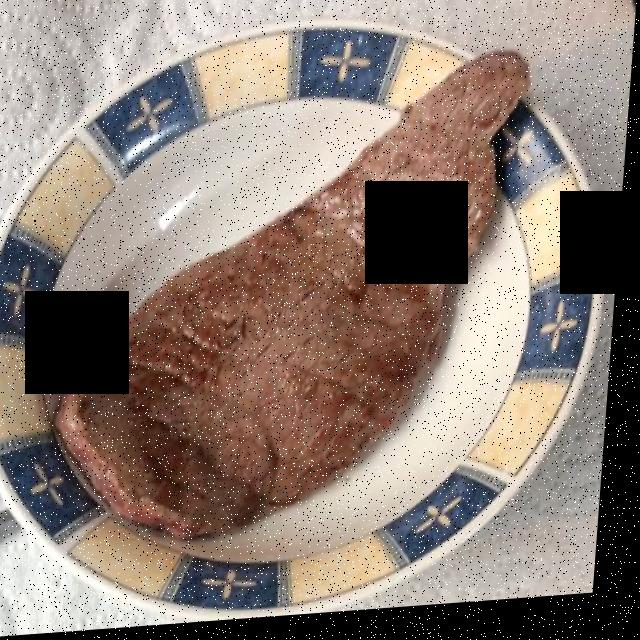beef-sirloin-steak: (72, 65, 519, 530)
